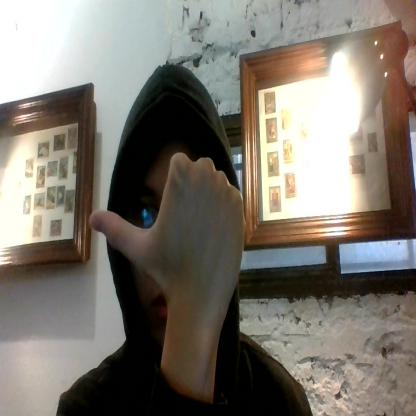right: (89, 148, 248, 324)
